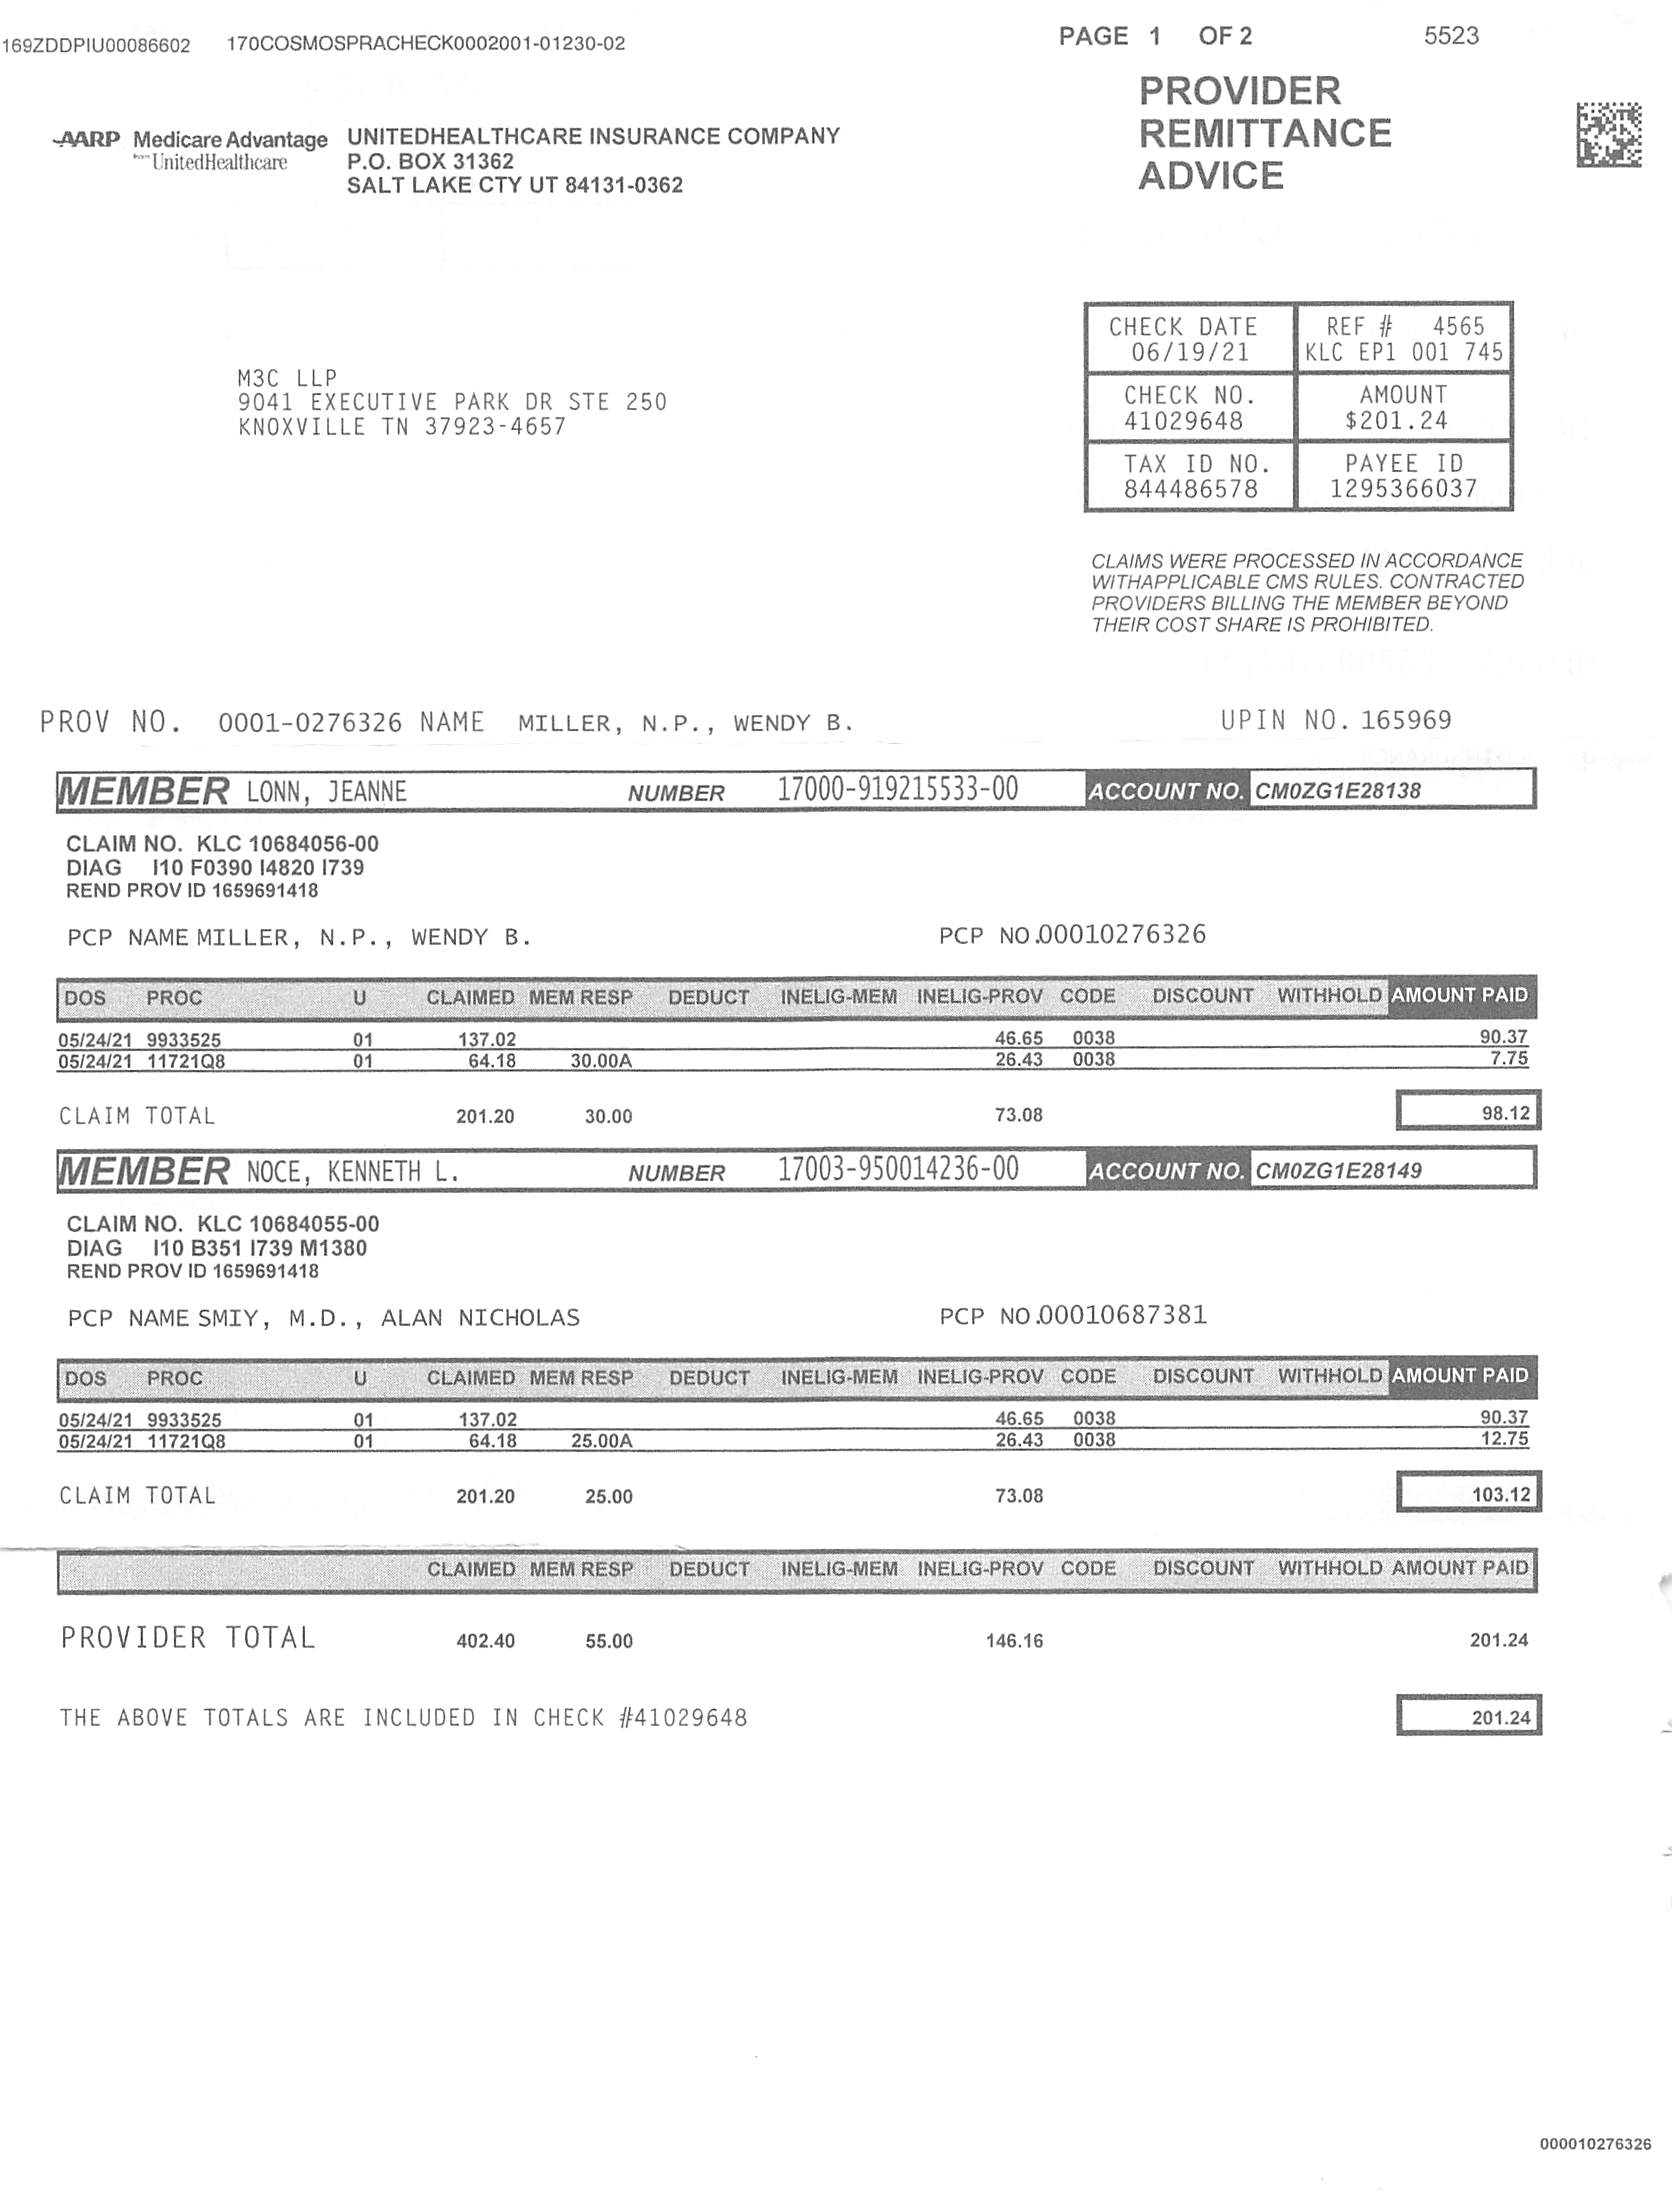data: (56, 1200, 395, 1288), (54, 831, 395, 913)
table: (46, 1534, 1551, 1664), (51, 1347, 1546, 1469), (49, 964, 1537, 1086), (1080, 283, 1523, 525), (49, 754, 1539, 820), (46, 1138, 1546, 1200)
